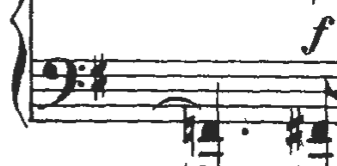bass_clef: (36, 47, 88, 115)
sharp: (87, 50, 113, 104)
